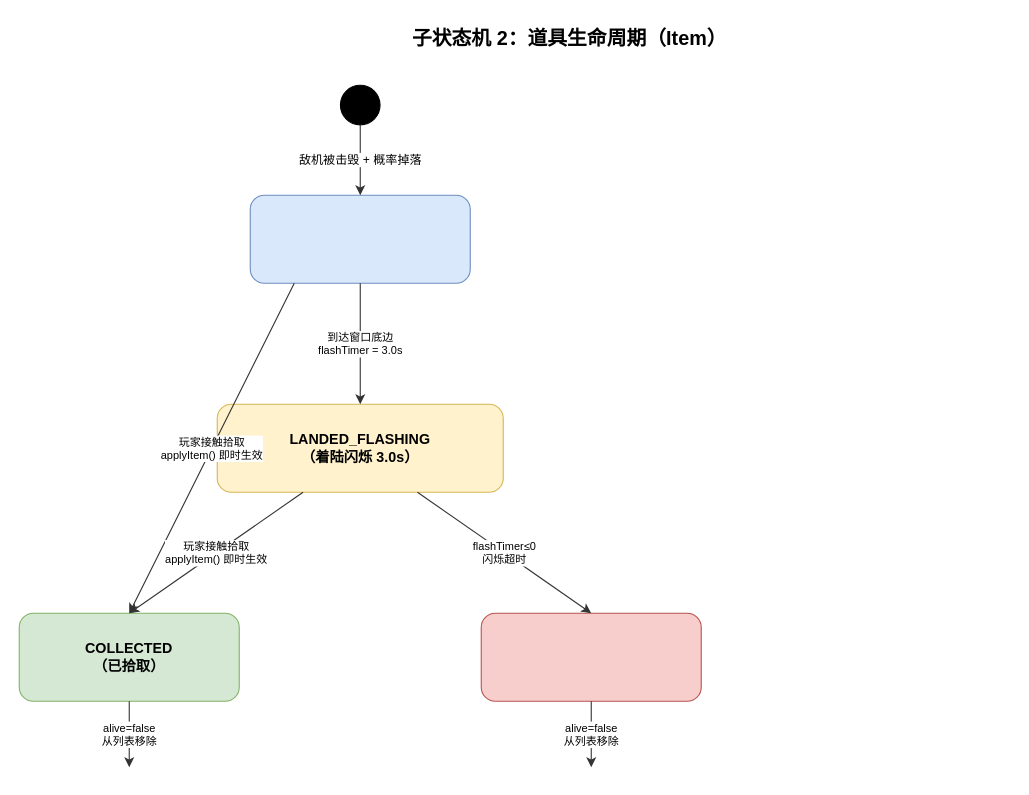
Some shapes in this 1029 by 795 pixel diagram are drawn without their labels. The centre of each missing label's shape, as x and y in pixels:
"EXPIRED （超时消失）" belongs at point 590,656.
"FALLING （下落中）" belongs at point 359,238.
